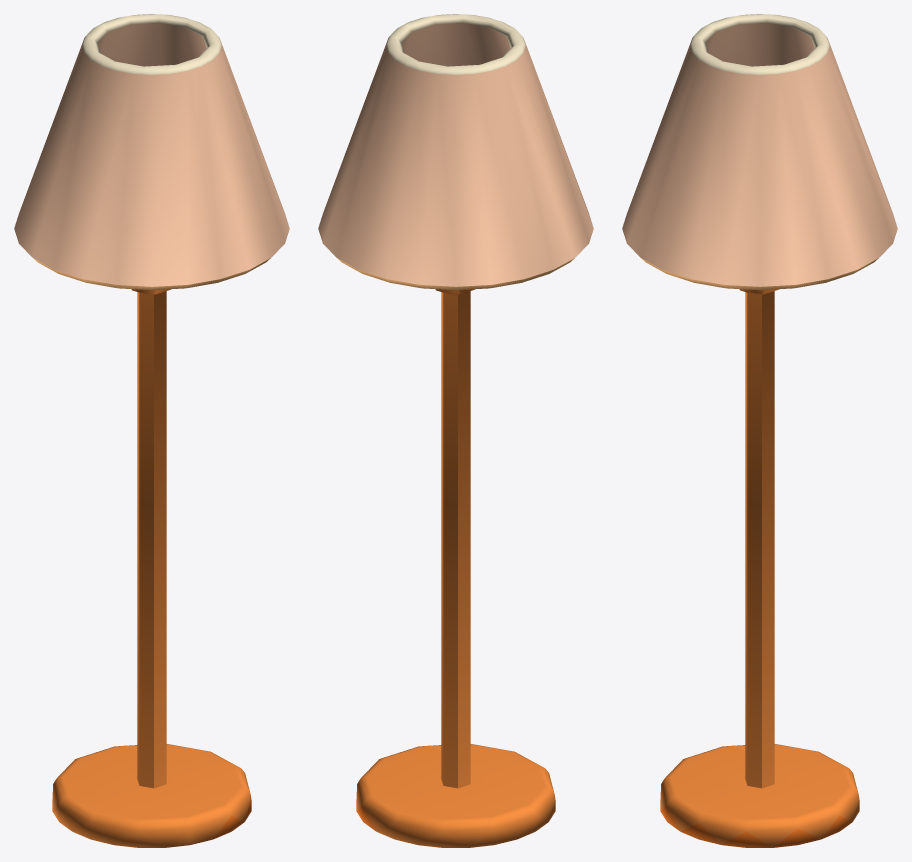
File: luminaria_natal_chao_cupula_pacote.glb
3 renders of one model, left to right at view 1: azimuth 30°, elevation 25°; view 2: azimuth 150°, elevation 25°; view 3: azimuth 270°, elevation 25°, orthographic.
Parts seen in each view (by area): view 1: luminaria_natal_chao_cupula_pacote; view 2: luminaria_natal_chao_cupula_pacote; view 3: luminaria_natal_chao_cupula_pacote.
Part boxes in pixels (bbox=[...]): luminaria_natal_chao_cupula_pacote: bbox=[14, 14, 289, 847]; luminaria_natal_chao_cupula_pacote: bbox=[318, 14, 593, 847]; luminaria_natal_chao_cupula_pacote: bbox=[622, 14, 897, 847].
Size of the model in its own units: 0.4818 by 1.48 by 0.4818.
Materials: 2 (1 with a texture image).
